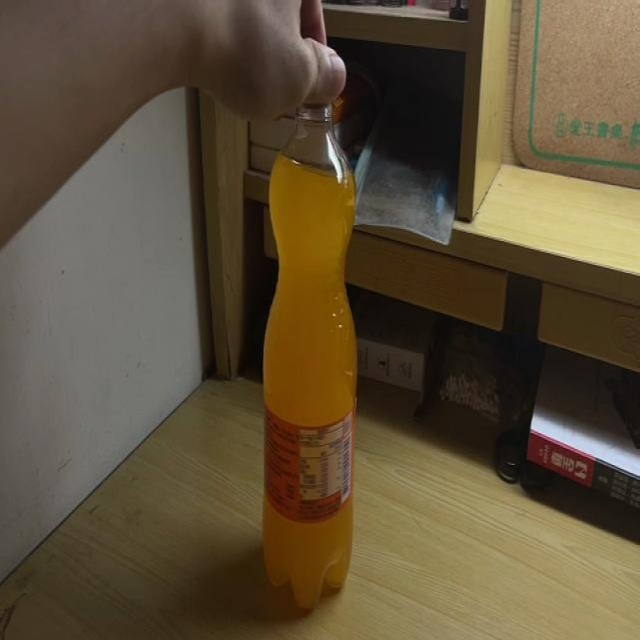Fanta: (261, 61, 359, 612)
